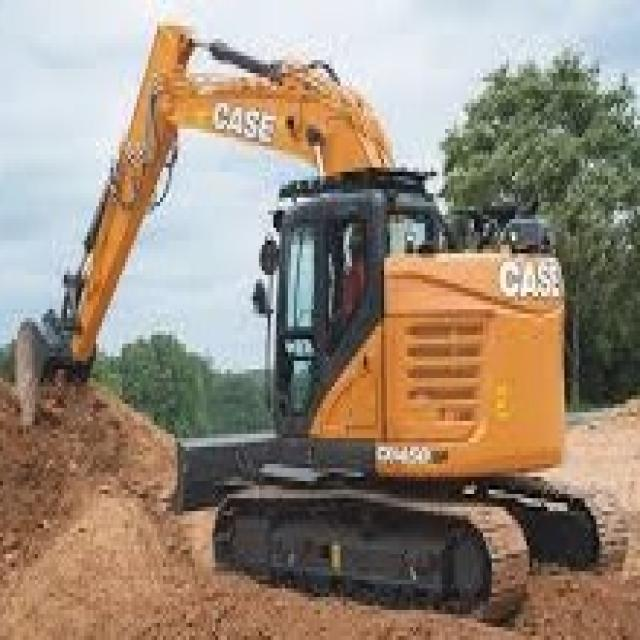excavator: (224, 180, 619, 628)
